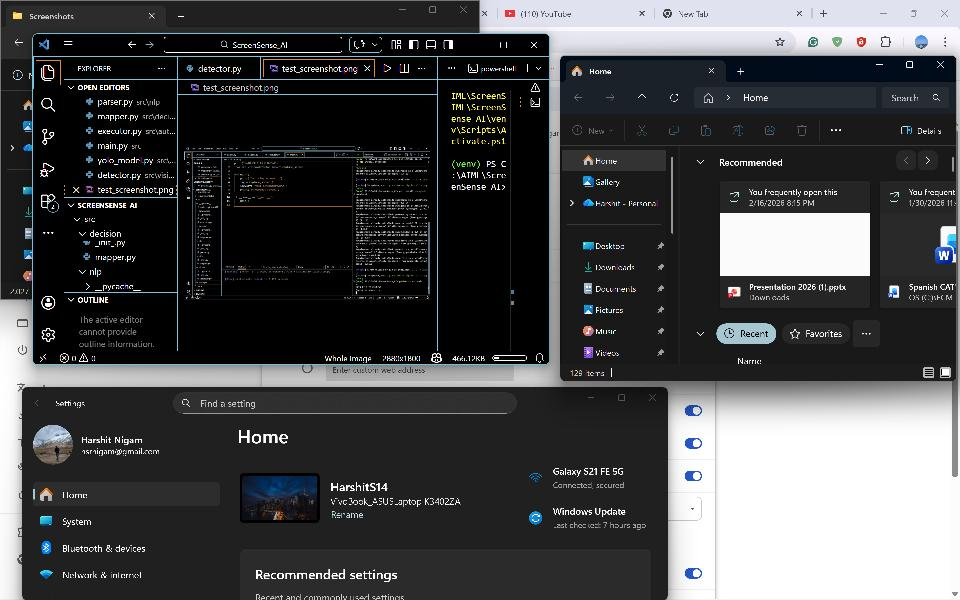close_button: (935, 2, 954, 25), (930, 59, 953, 76), (524, 36, 545, 53), (644, 389, 662, 406), (455, 3, 472, 18)
maximize_button: (421, 2, 447, 21), (904, 2, 925, 24), (613, 389, 633, 405), (495, 36, 513, 53), (901, 59, 920, 74)
minimize_button: (872, 2, 897, 26), (577, 389, 604, 407), (462, 35, 483, 55), (393, 2, 412, 23), (869, 58, 890, 74)
